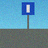sign: (22, 2, 34, 35)
